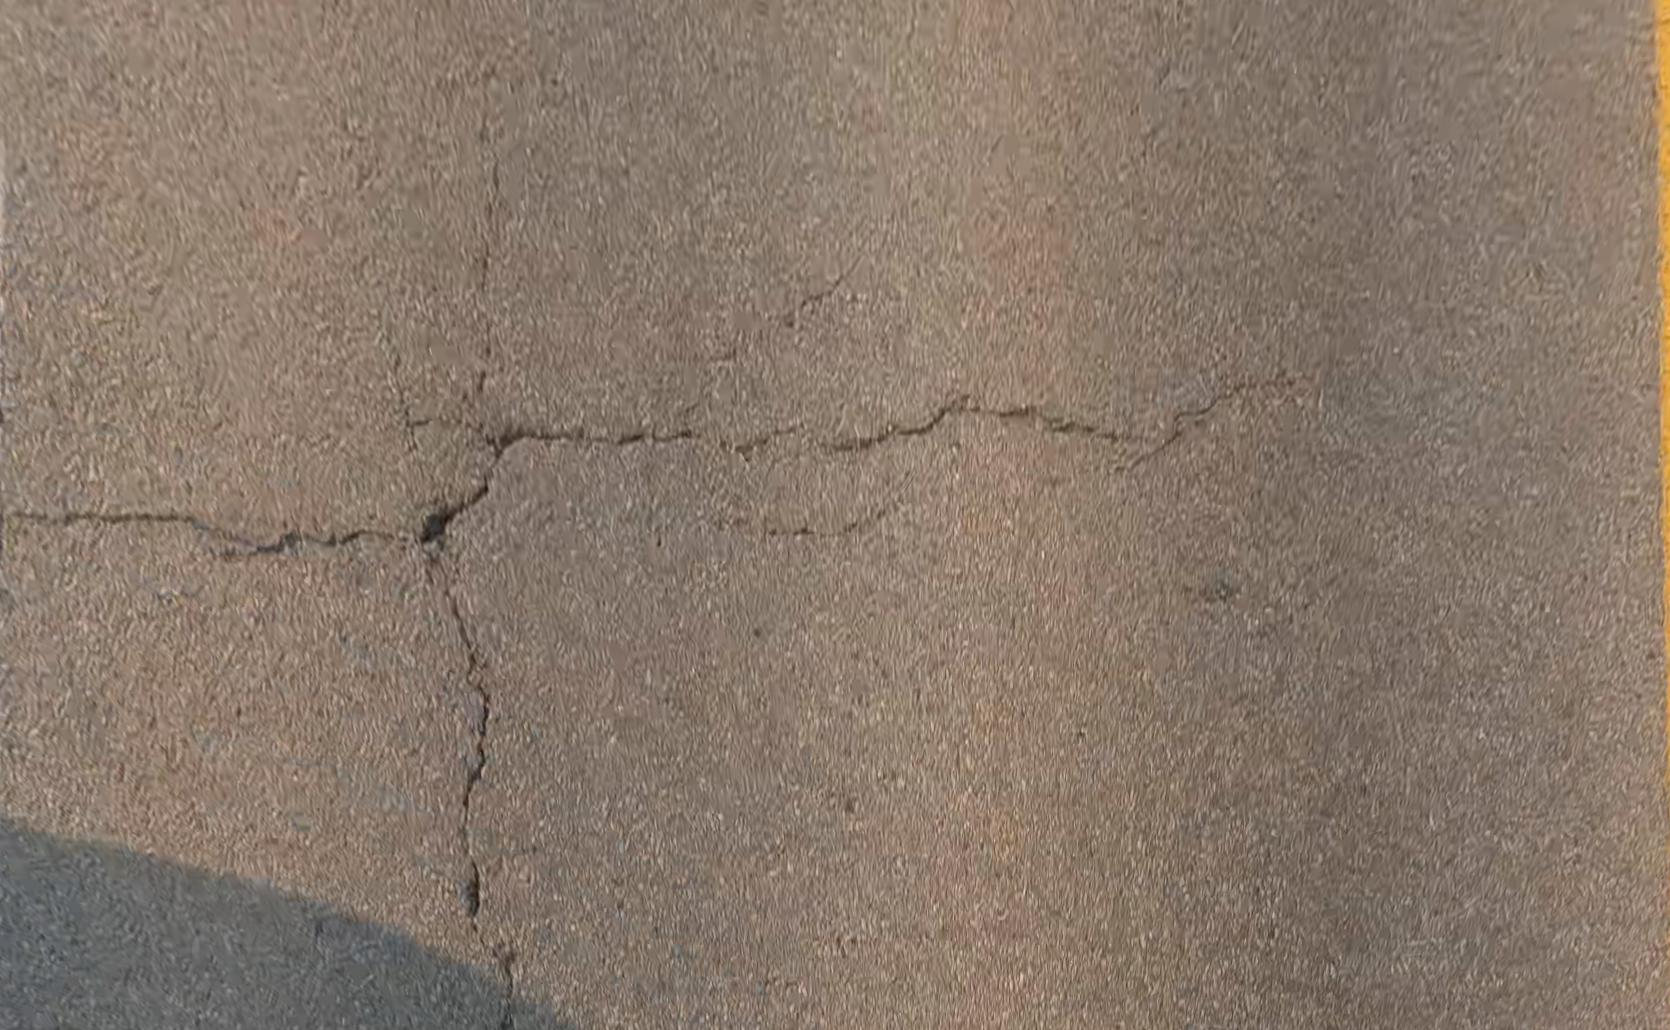pothole: (420, 513, 445, 542)
